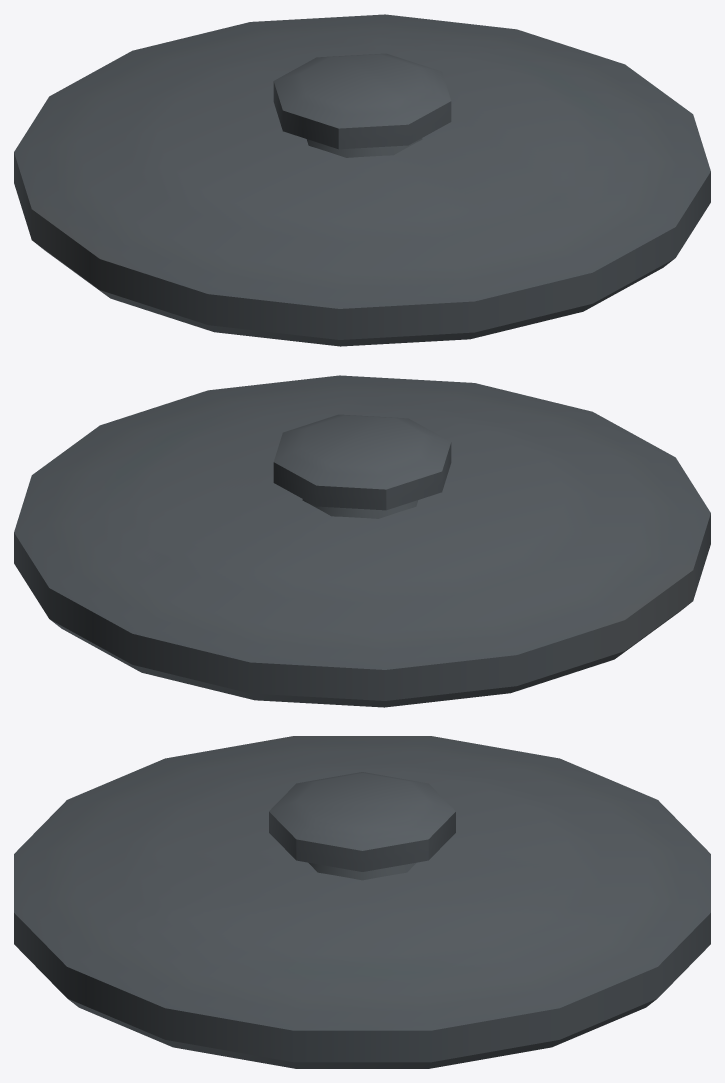
The model's file is kkr.lid_b.glb.
3 views of the same model, one above another, from view 1: azimuth 30°, elevation 25°; view 2: azimuth 150°, elevation 25°; view 3: azimuth 270°, elevation 25° (orthographic).
Parts seen in each view (by area): view 1: lid_B; view 2: lid_B; view 3: lid_B.
Part boxes in pixels (bbox=[...]): lid_B: bbox=[14, 14, 710, 346]; lid_B: bbox=[14, 375, 710, 707]; lid_B: bbox=[14, 736, 710, 1068].
Bounding box in the file's own units: 0.2757 × 0.0552 × 0.2757.
1 material, 1 textured.
